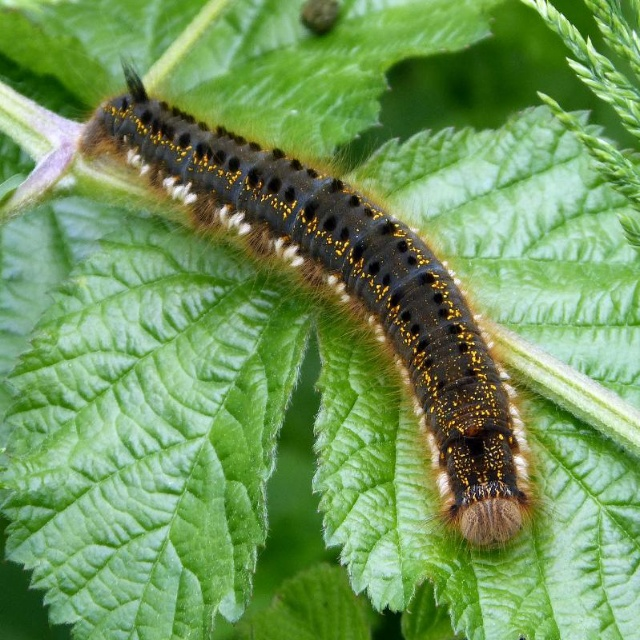Caterpillar: (83, 52, 563, 567)
